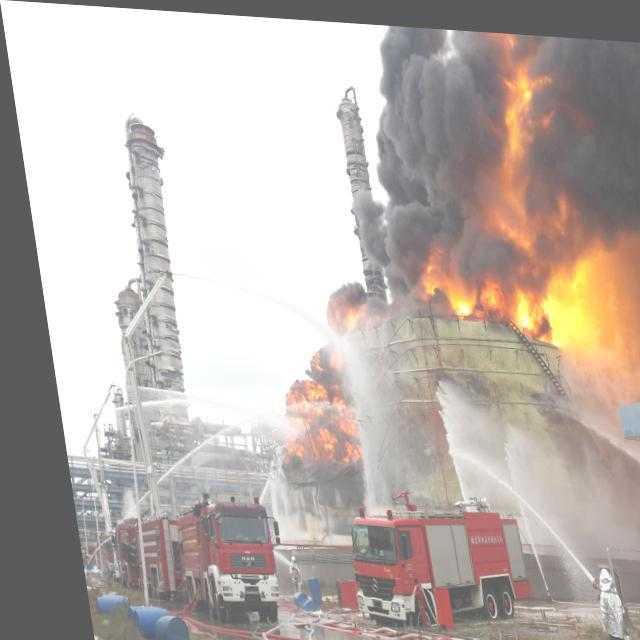Fire: (246, 272, 386, 498), (396, 240, 482, 343), (494, 280, 530, 338)
